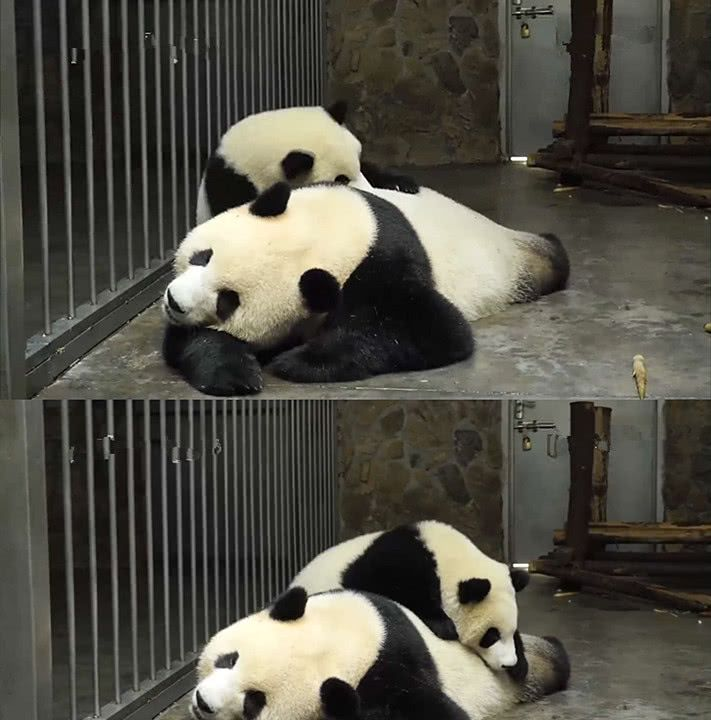panda: (144, 185, 597, 384), (191, 602, 581, 714), (270, 512, 543, 668), (168, 92, 401, 210)
